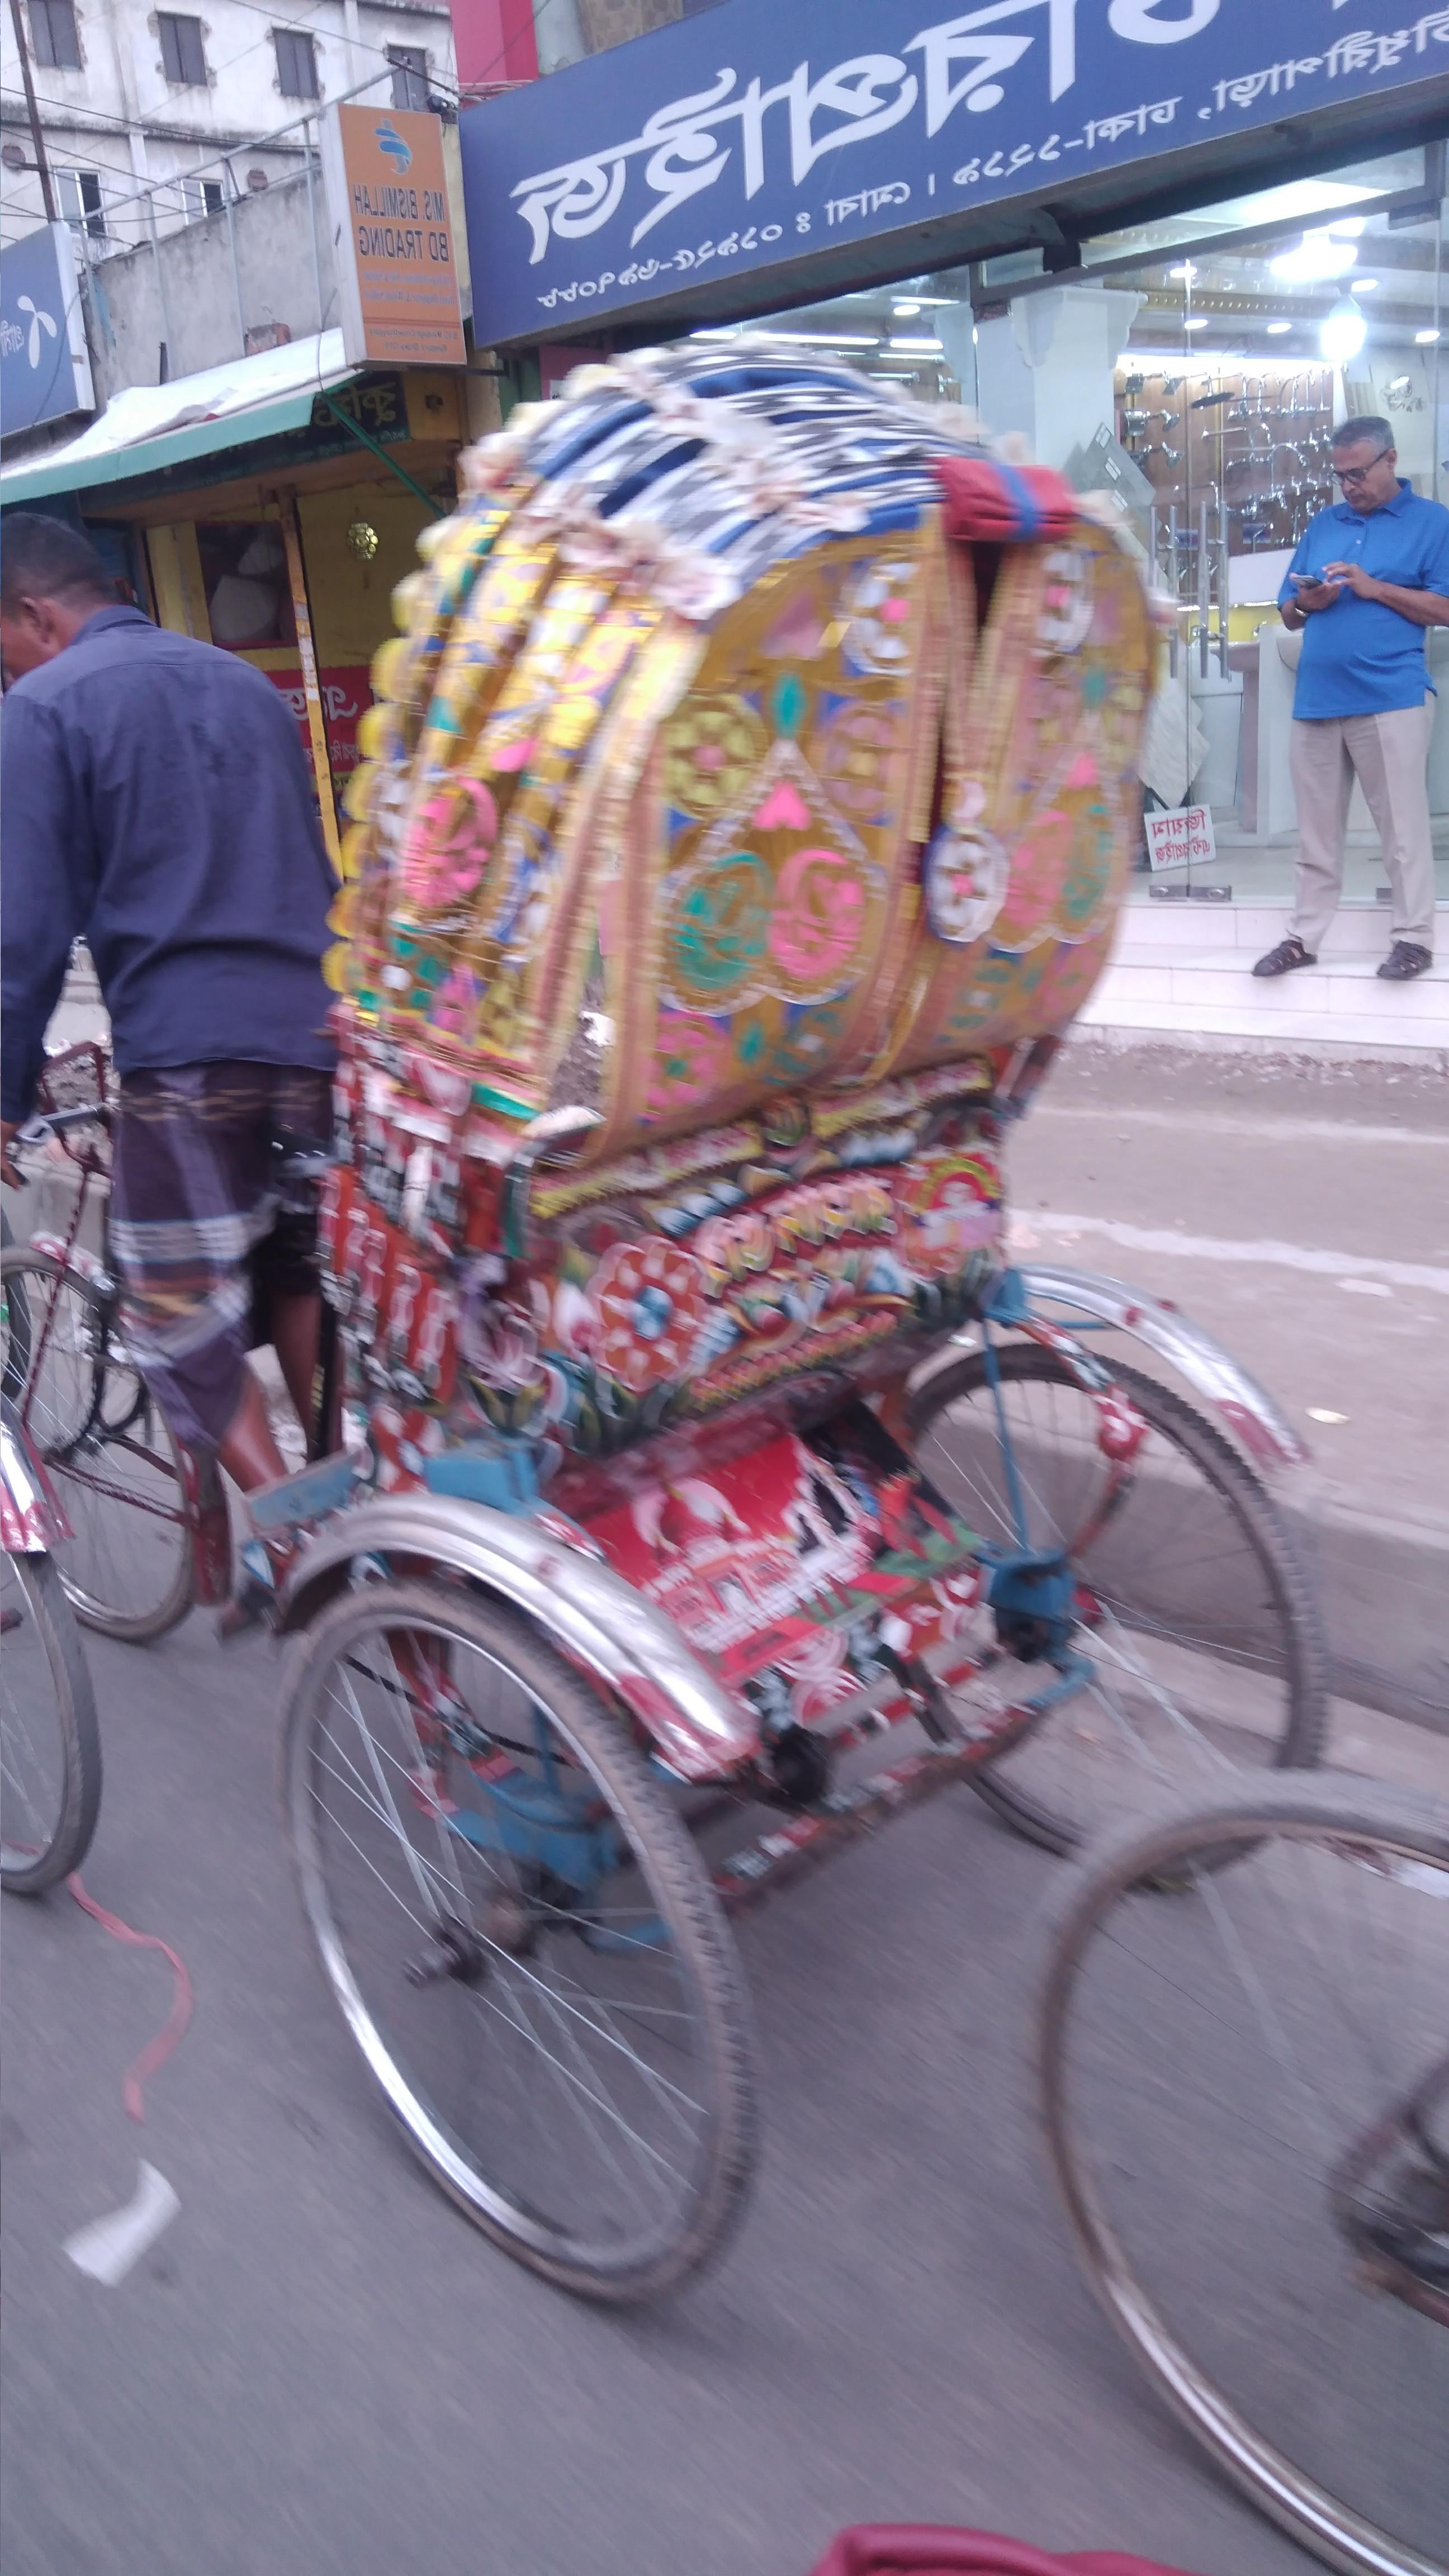Rickshaw: (27, 345, 1330, 2042)
